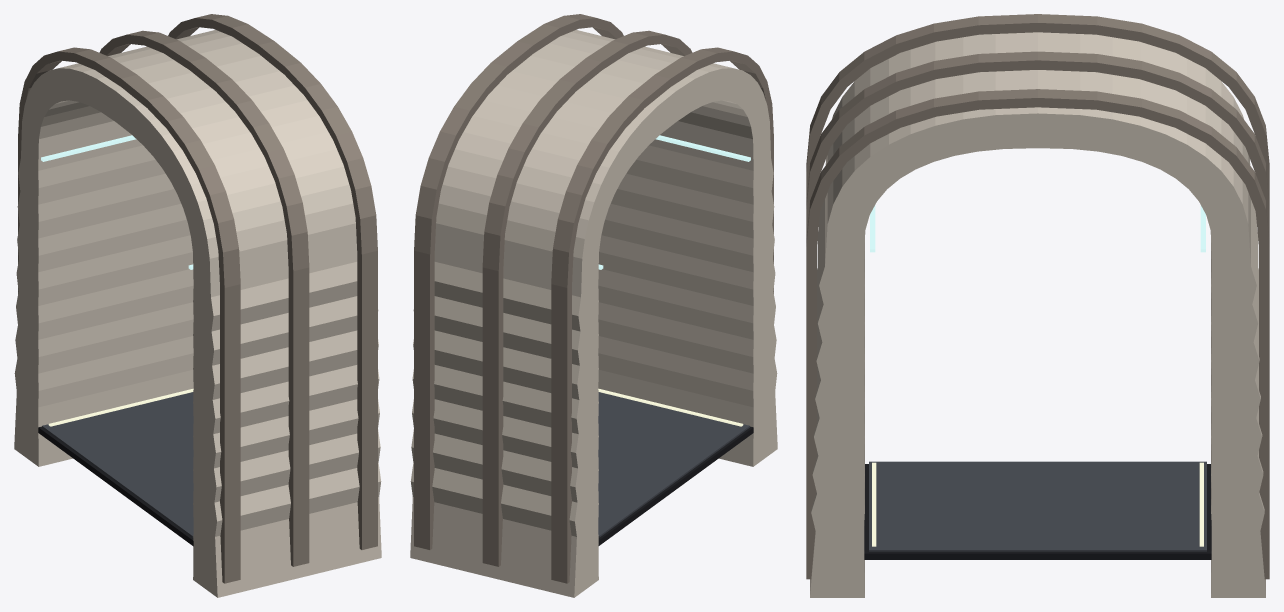
Rendered from Tunnel2.fbx.
3 renders of one model, left to right at view 1: azimuth 30°, elevation 25°; view 2: azimuth 150°, elevation 25°; view 3: azimuth 270°, elevation 25°, orthographic. The views are drawn at different scales.
Parts seen in each view (by area): view 1: Tunnel2 solid, Tunnel2 trim; view 2: Tunnel2 solid, Tunnel2 trim; view 3: Tunnel2 solid, Tunnel2 trim.
Part boxes in pixels (<box>): Tunnel2 solid: <box>14,30,381,597</box>; Tunnel2 trim: <box>18,14,377,583</box>; Tunnel2 solid: <box>410,30,777,597</box>; Tunnel2 trim: <box>414,14,773,583</box>; Tunnel2 solid: <box>810,32,1265,597</box>; Tunnel2 trim: <box>806,14,1269,579</box>.
Size of the model in its own units: 1.22 by 3.15 by 2.66.
